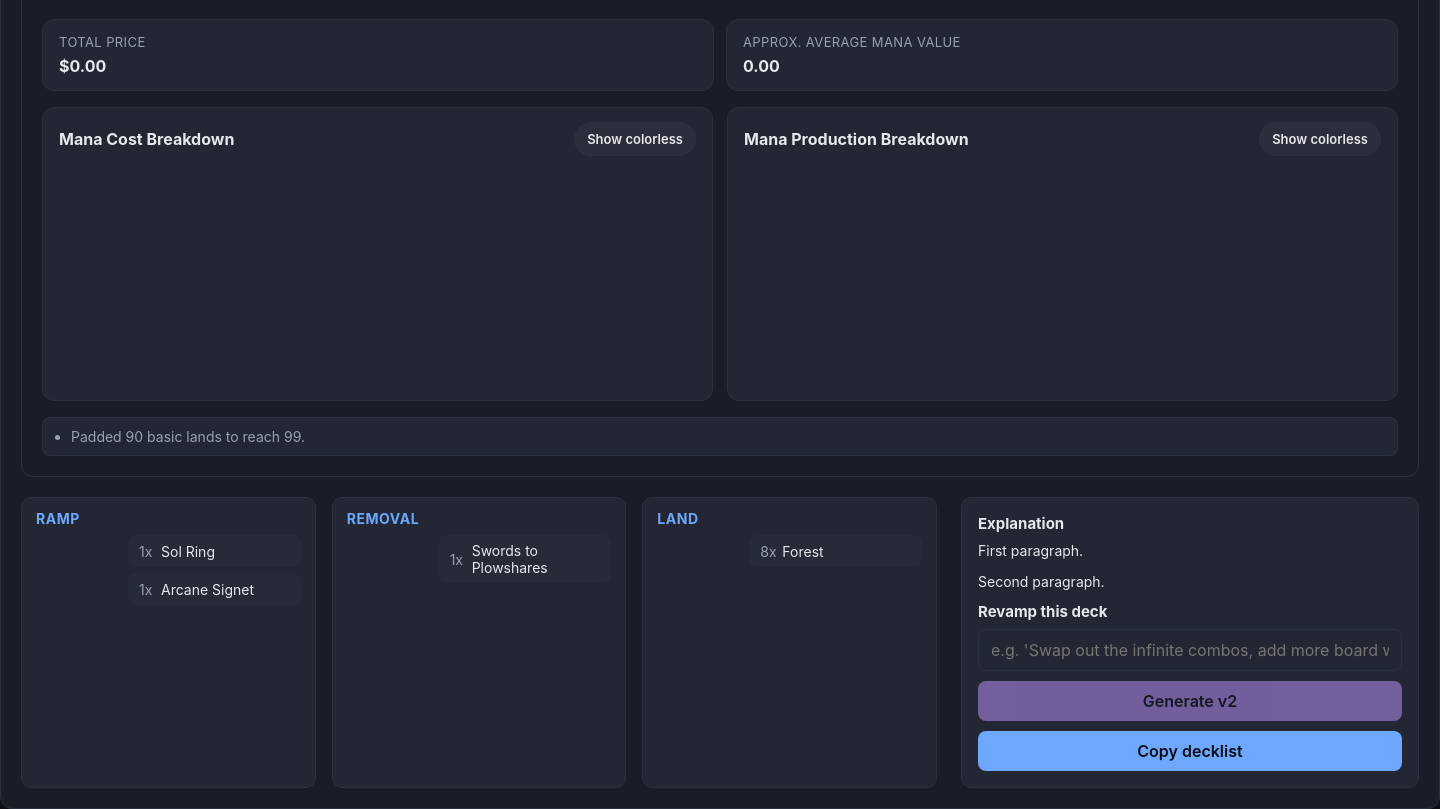
DeckResult › copies a formatted decklist to clipboard and flashes "Copied!"
(page scrolled)
Click the button "Copy decklist". click: [1190, 751]
box: x1=978 y1=731 x2=1402 y2=771
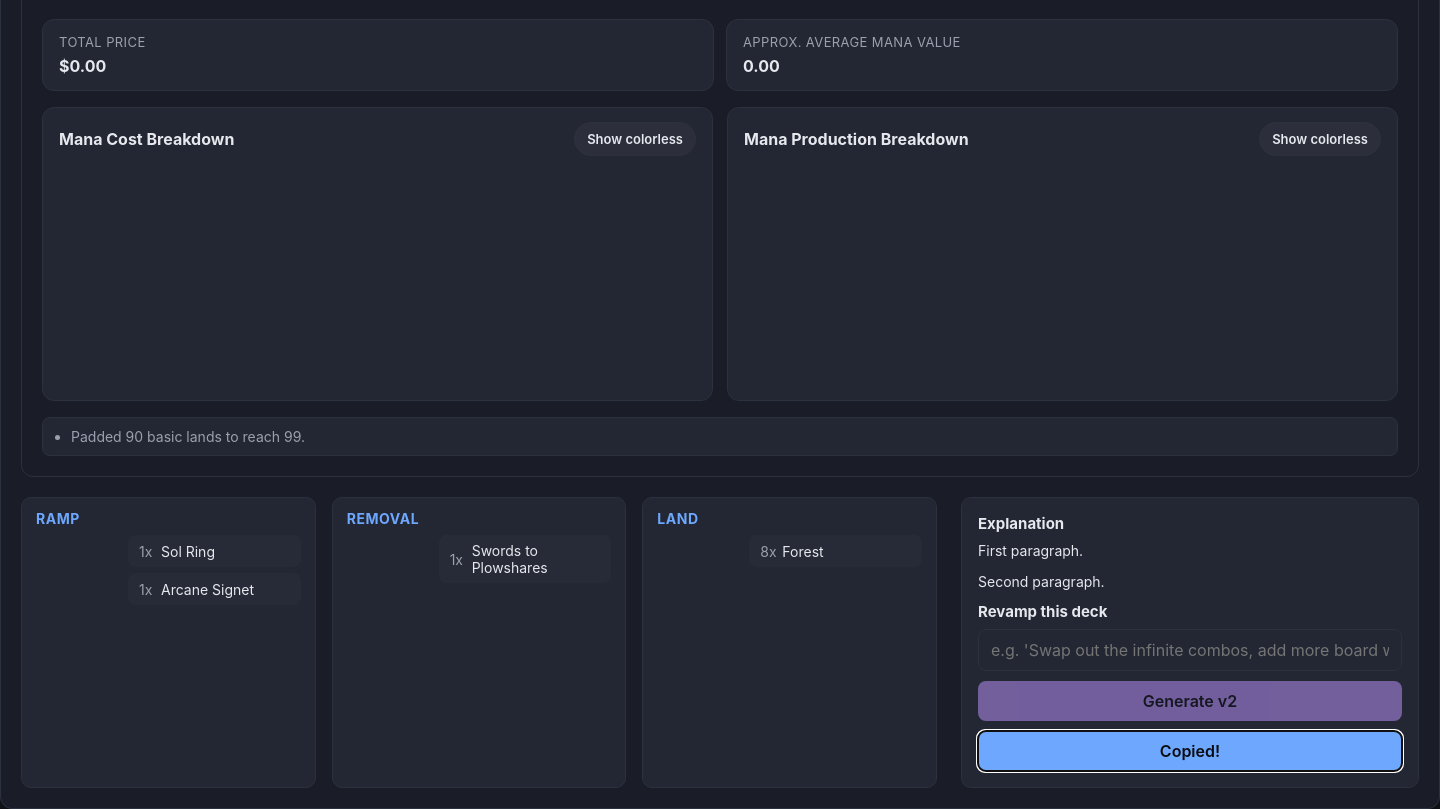
Result: the button "Copied!" is shown at x1=978 y1=731 x2=1402 y2=771
